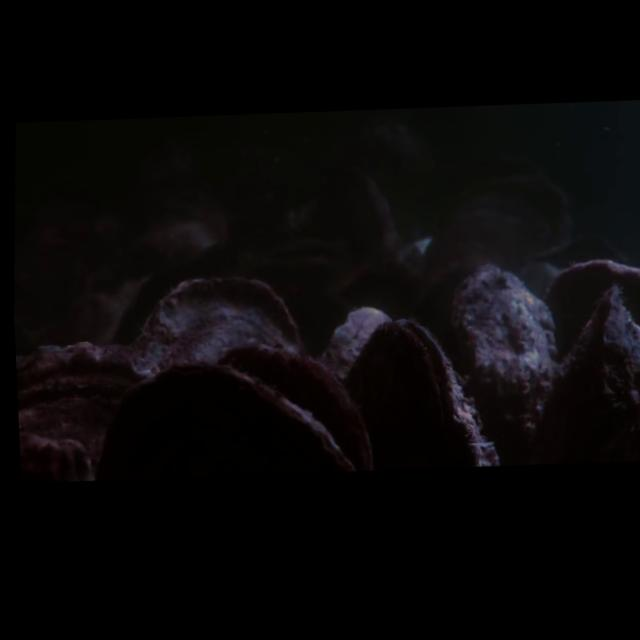Oyster-Closed: (92, 359, 360, 480), (341, 318, 501, 468), (219, 340, 377, 469), (530, 281, 640, 458), (20, 339, 160, 464)
Oyster-Indeterminate: (450, 265, 559, 464), (134, 273, 307, 365), (543, 257, 640, 352), (320, 304, 395, 377)
